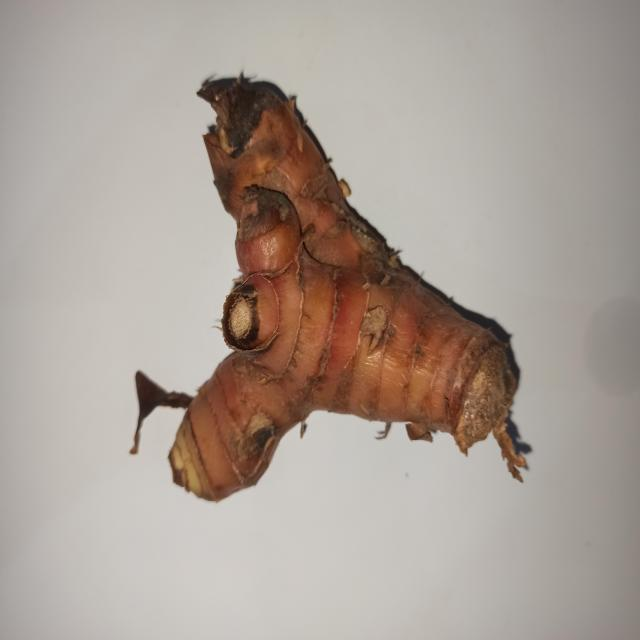ginger: (165, 56, 537, 484)
